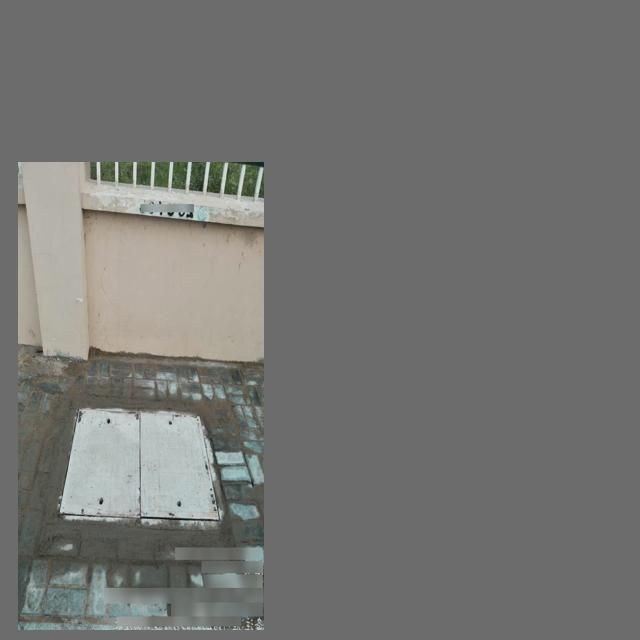good: (58, 407, 226, 525)
